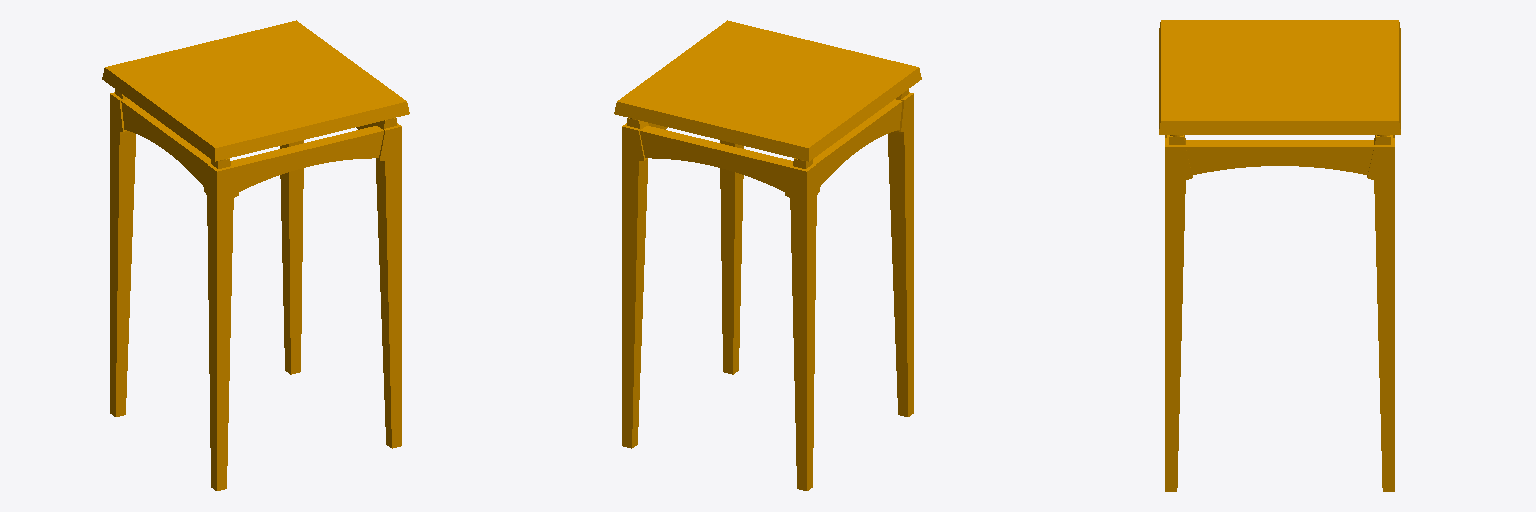
The robot description file, URDF, robot "d37fd2ce56b3340eaccac37ae24b8e2":
<?xml version="1.0" ?>
<robot name="d37fd2ce56b3340eaccac37ae24b8e2">

  <link name="base">

    <inertial>
      <mass value="1"/>
      <inertia ixx="1" ixy="0" ixz="0" iyy="1" iyz="0" izz="1"/>
    </inertial>

    <visual>
      <origin rpy="1.57079 0 0" xyz="0 0 0.71"/>
      <geometry>
        <mesh filename ="models/model_normalized.obj" scale="1 1 1"/>
      </geometry>
    </visual>

    <collision>
      <origin rpy="1.57079 0 0" xyz="0 0 0.71"/>
      <geometry>
        <mesh filename ="models/model_normalized.obj" scale="1 1 1"/>
      </geometry>
    </collision>

  </link>
  
</robot>

--- Render facts (derived) ---
3 views of the same robot in one strip: view 1: azimuth 30°, elevation 25°; view 2: azimuth 150°, elevation 25°; view 3: azimuth 270°, elevation 25° (orthographic).
Model d37fd2ce56b3340eaccac37ae24b8e2 with 1 links and 0 joints (none), rooted at base, posed every joint at zero.
Visible links, largest first — view 1: base; view 2: base; view 3: base.
Boxes of the visible links, x1=… form: base: x1=102, y1=20, x2=409, y2=490; base: x1=614, y1=20, x2=921, y2=490; base: x1=1159, y1=20, x2=1400, y2=491.
Bounding box of the posed robot: 0.4538 × 0.4538 × 0.7668 m (x, y, z).
Meshes: 1 distinct files referenced, 1 mesh visuals loaded (1 OBJ).